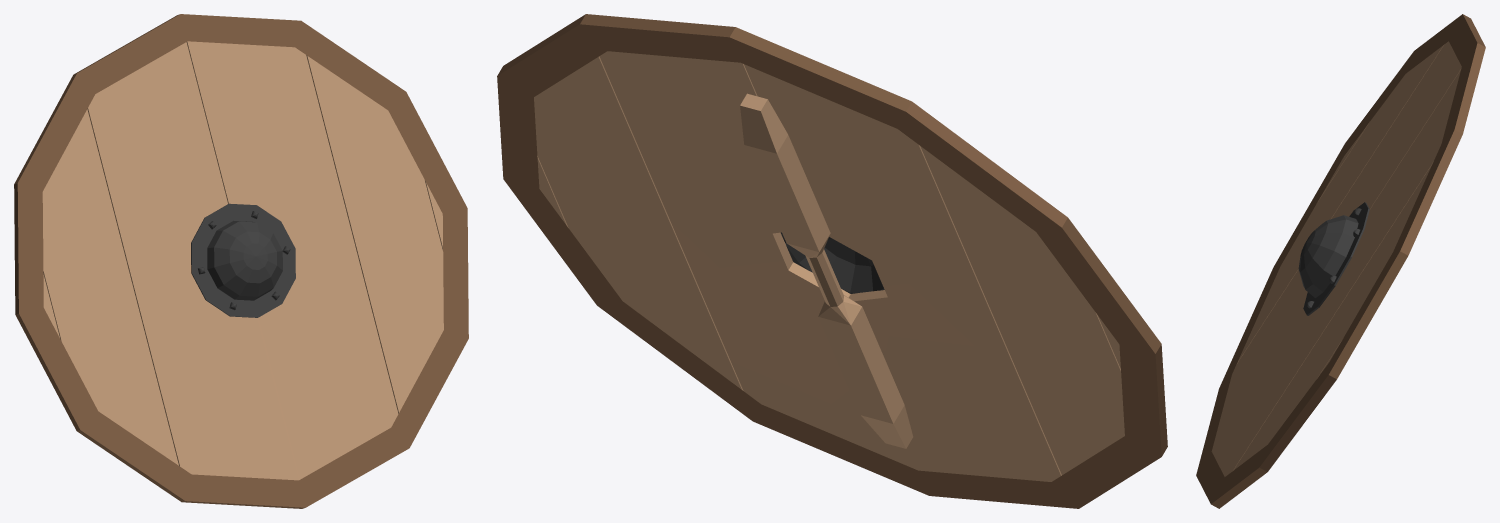
The model's file is shield.fbx.
3 renders of one model, left to right at view 1: azimuth 30°, elevation 25°; view 2: azimuth 150°, elevation 25°; view 3: azimuth 270°, elevation 25°, orthographic. The views are drawn at different scales.
Parts seen in each view (by area): view 1: Cube.018; view 2: Cube.018; view 3: Cube.018.
Boxes of the visible parts, <box> form: Cube.018: <box>14,14,468,508</box>; Cube.018: <box>497,14,1167,508</box>; Cube.018: <box>1196,14,1485,508</box>.
Bounding box in the file's own units: 149 × 130 × 77.77.
